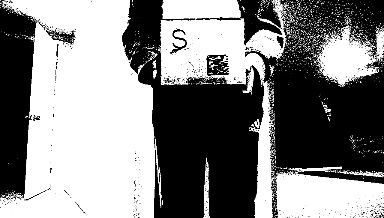S: (169, 27, 188, 47)
